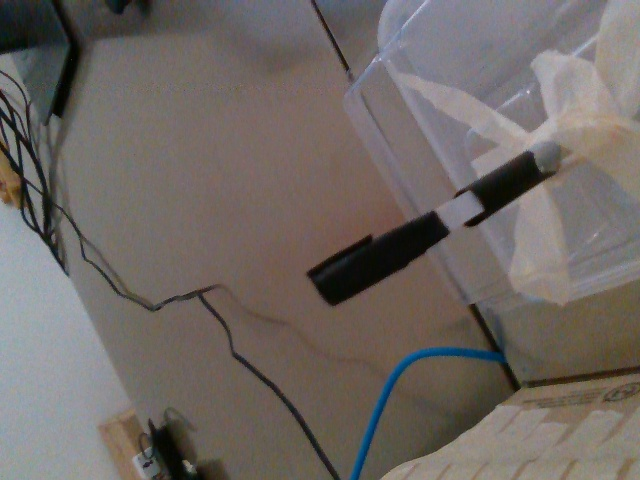test_strip: (306, 190, 484, 306)
